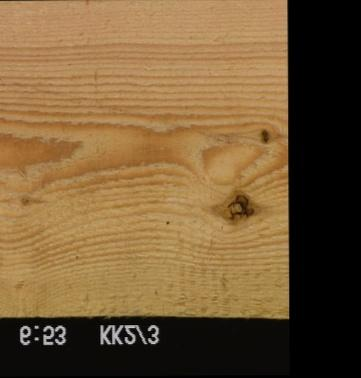dry_knot: (257, 128, 269, 144)
